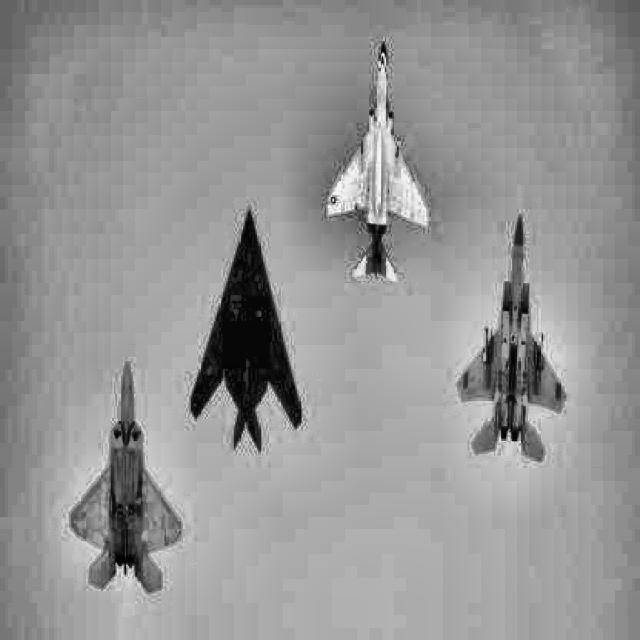F117: (190, 203, 302, 454)
F15: (456, 213, 567, 462)
F22: (70, 360, 182, 594)
F4: (325, 32, 430, 283)
